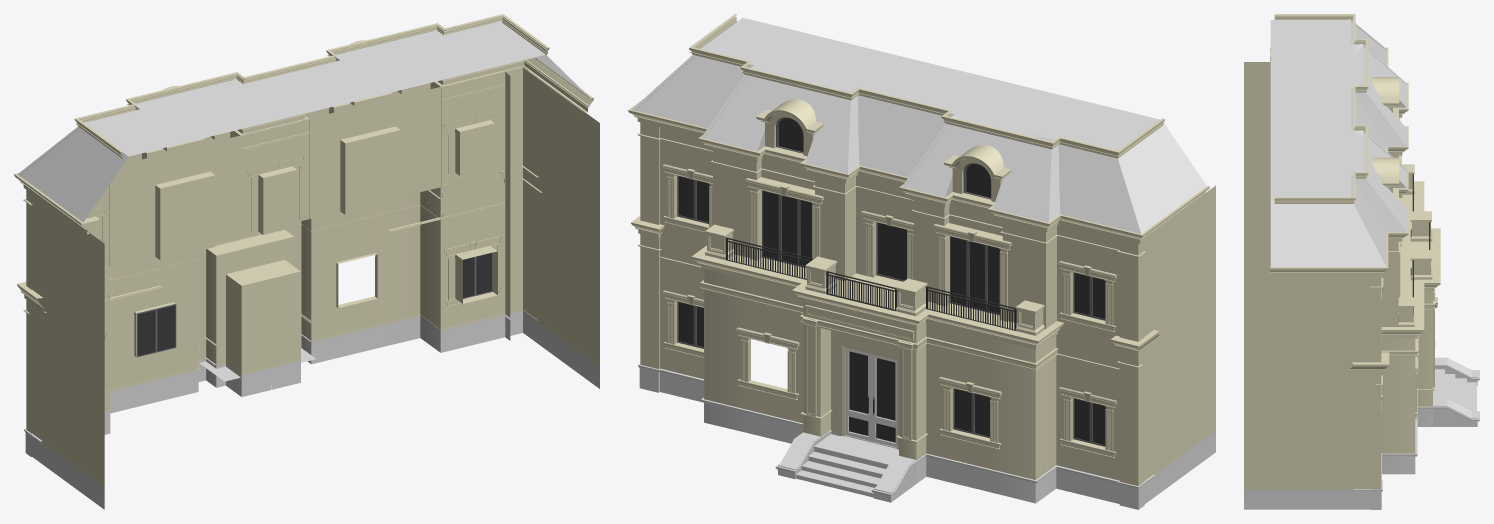
File: classic_house(1).fbx
3 views of the same model, side by side, from view 1: azimuth 30°, elevation 25°; view 2: azimuth 150°, elevation 25°; view 3: azimuth 270°, elevation 25° (orthographic). The views are drawn at different scales.
Parts seen in each view (by area): view 1: Main, Cube.002, Plane.007, Plane.017, Plane.009, Plane.008; view 2: Main, Cube.002, Plane.007, Plane.008, Plane.011, Plane.009, Plane.016, Plane.013, Plane.017, Plane.004, Plane.012, Plane.010 (+6 smaller); view 3: Main, Cube.002, Plane.007, Plane.008, Plane.011, Plane.017, Plane.009.
Part boxes in pixels (x1,y1,x2,y2): Main: [25, 66, 599, 509]; Cube.002: [17, 21, 590, 222]; Plane.007: [14, 40, 593, 267]; Plane.017: [74, 14, 549, 158]; Plane.009: [23, 84, 504, 350]; Plane.008: [17, 166, 541, 443]; Main: [639, 122, 1215, 509]; Cube.002: [632, 18, 1206, 234]; Plane.007: [628, 99, 1209, 328]; Plane.008: [631, 216, 1159, 496]; Plane.011: [778, 432, 916, 502]; Plane.009: [637, 132, 1145, 442]; Plane.016: [845, 347, 897, 448]; Plane.013: [745, 177, 1011, 321]; Plane.017: [689, 14, 1164, 158]; Plane.004: [736, 327, 1001, 449]; Plane.012: [662, 164, 1116, 332]; Plane.010: [662, 290, 1116, 458]; Main: [1244, 62, 1434, 509]; Cube.002: [1270, 19, 1406, 267]; Plane.007: [1270, 47, 1408, 326]; Plane.008: [1347, 181, 1479, 491]; Plane.011: [1433, 357, 1477, 426]; Plane.017: [1274, 14, 1368, 203]; Plane.009: [1370, 117, 1437, 390].
Bounding box in the file's own units: 1945 × 1221 × 879.
